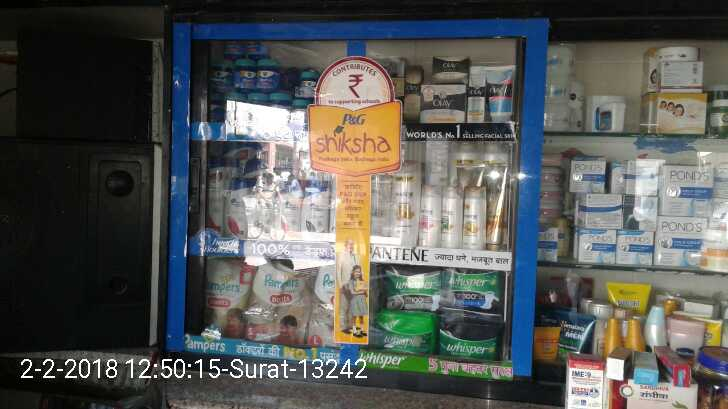pharmacy: (437, 316, 498, 367), (443, 264, 503, 312), (386, 266, 439, 312), (377, 318, 437, 353)
